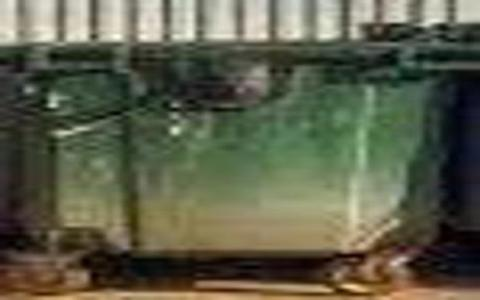Proper garbage: (14, 26, 450, 285)
